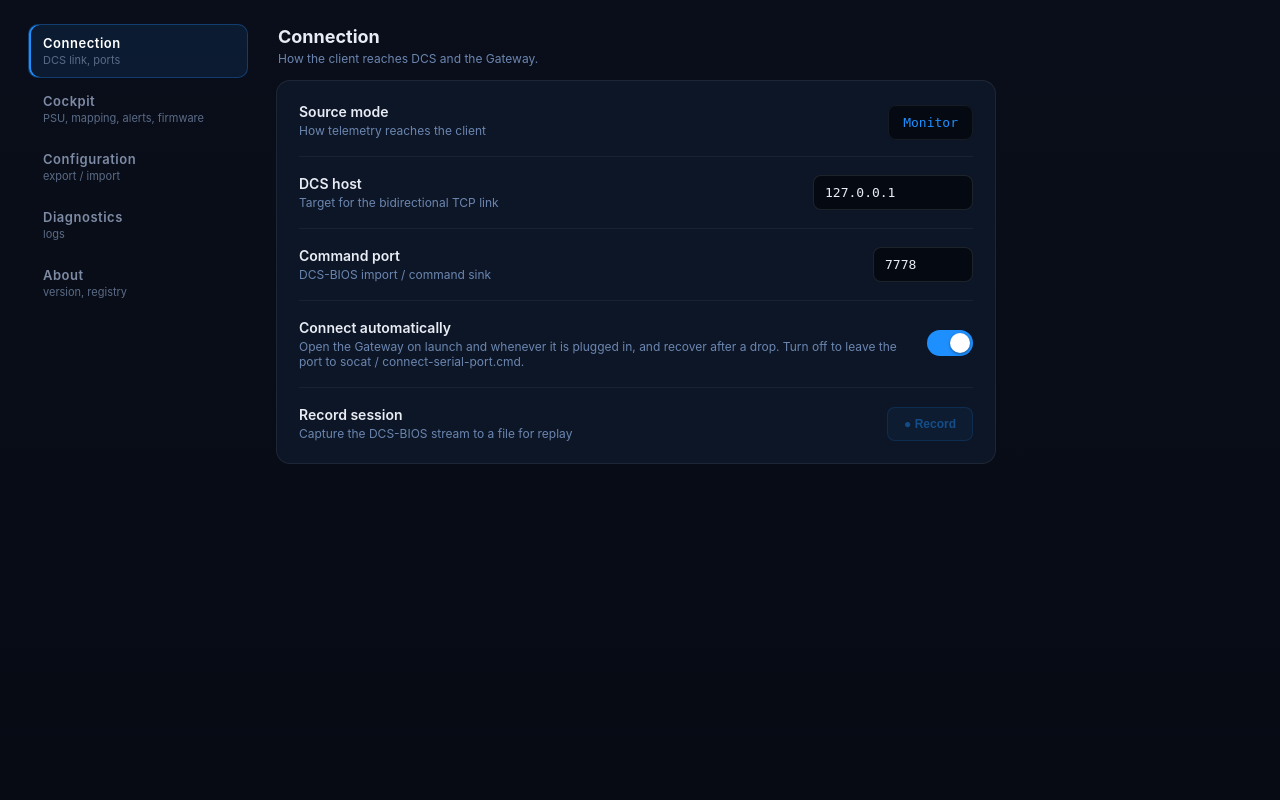
T36 Settings › Configuration › Automatic backups (#136) › Restore… opens the import review on the backup, titled as a restore
Click the button "Configuration export / import": (138, 167) [28,140,248,194]
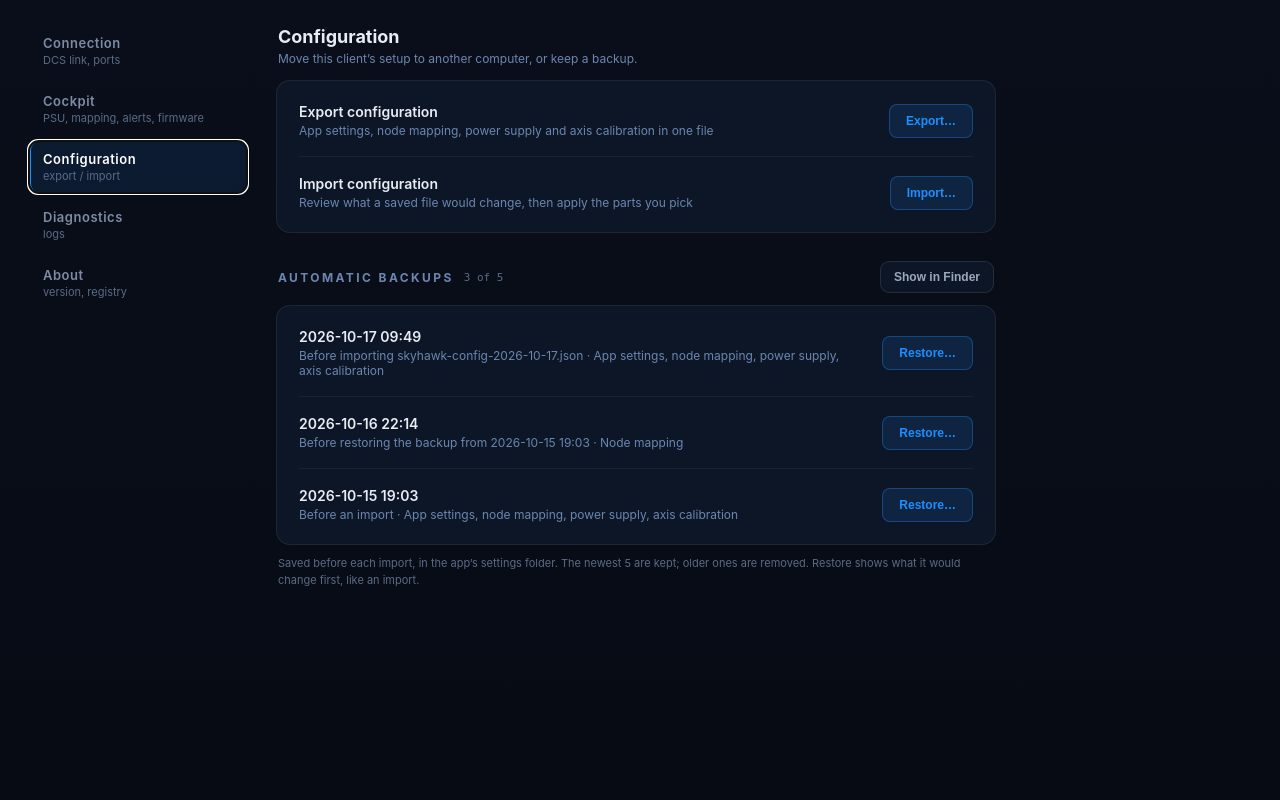
Click the button with aria-label "Restore the backup from 2026-10-17 09:49": (928, 353) [882,336,973,370]
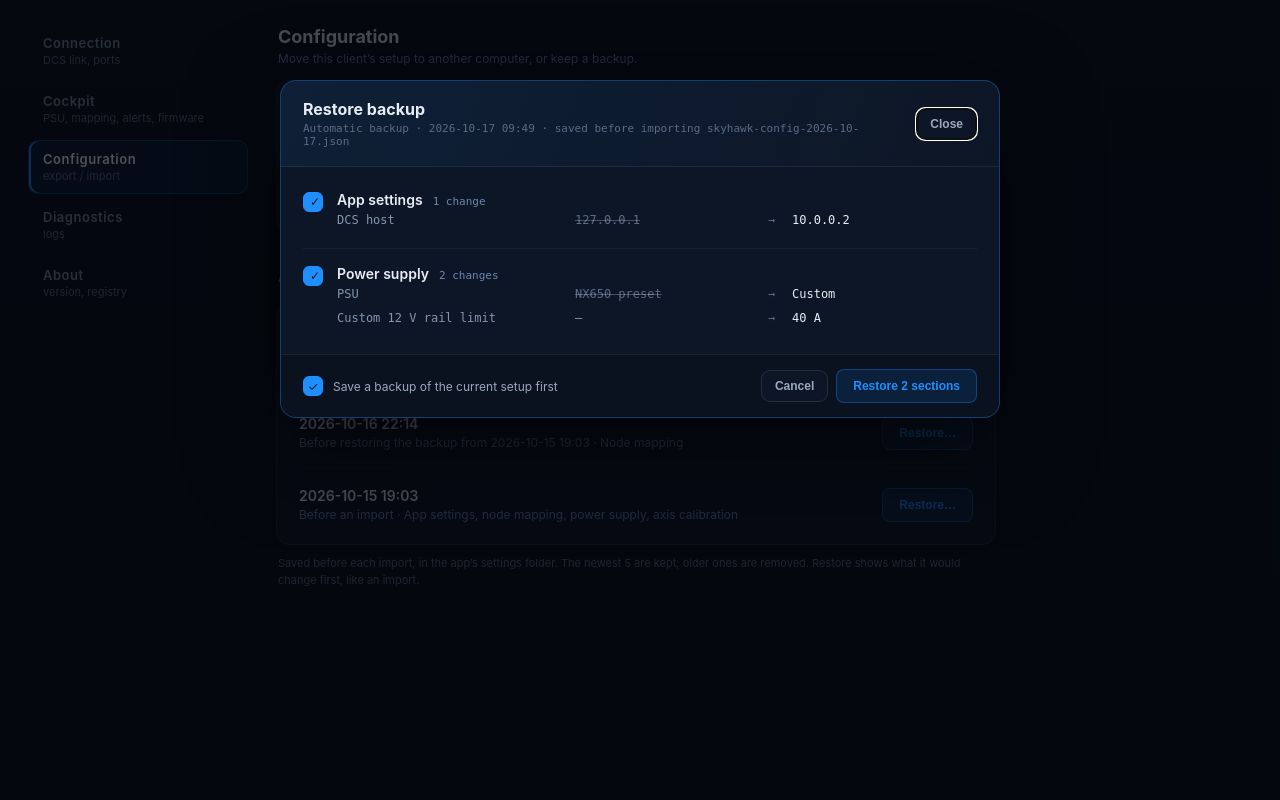
Check: the text "Automatic backup · 2026-10-17 09:49 · saved before importing skyhawk-config-2026-10-17.json" is shown, box [303,122,859,148]
Check: the button "Restore 2 sections" is enabled, box [836,369,977,403]
